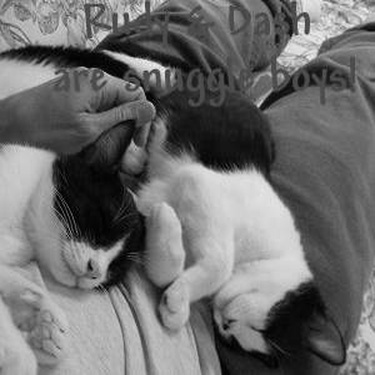cat: (97, 25, 348, 367), (3, 44, 141, 291)
